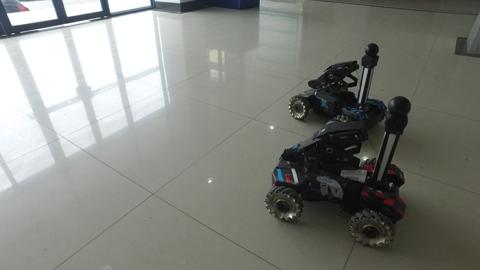chariot: (261, 86, 410, 250), (287, 36, 387, 136)
